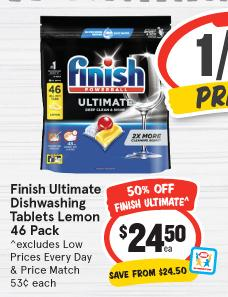description_block: (5, 180, 103, 239)
price_main: (104, 214, 196, 258)
product_image_block: (31, 6, 181, 176)
promo_text_block: (101, 263, 204, 284)
unit_price_block: (5, 276, 62, 290)
